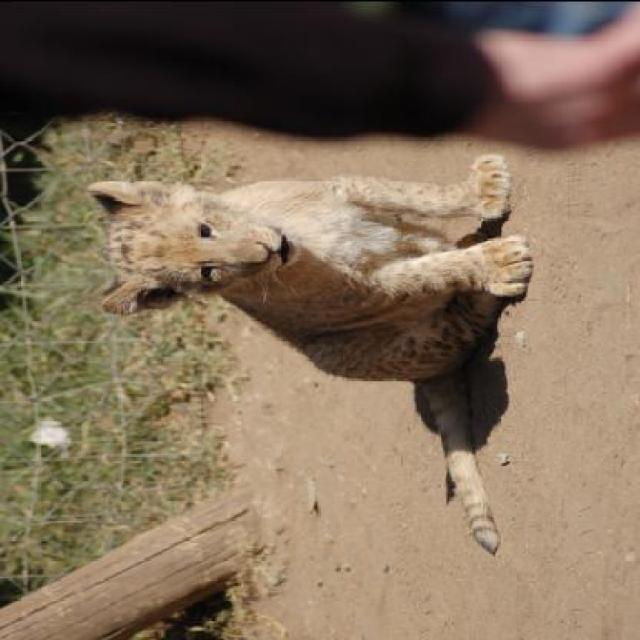Lion: (59, 138, 563, 532)
